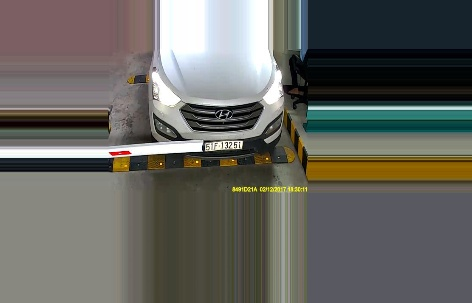plate: (202, 137, 244, 153)
